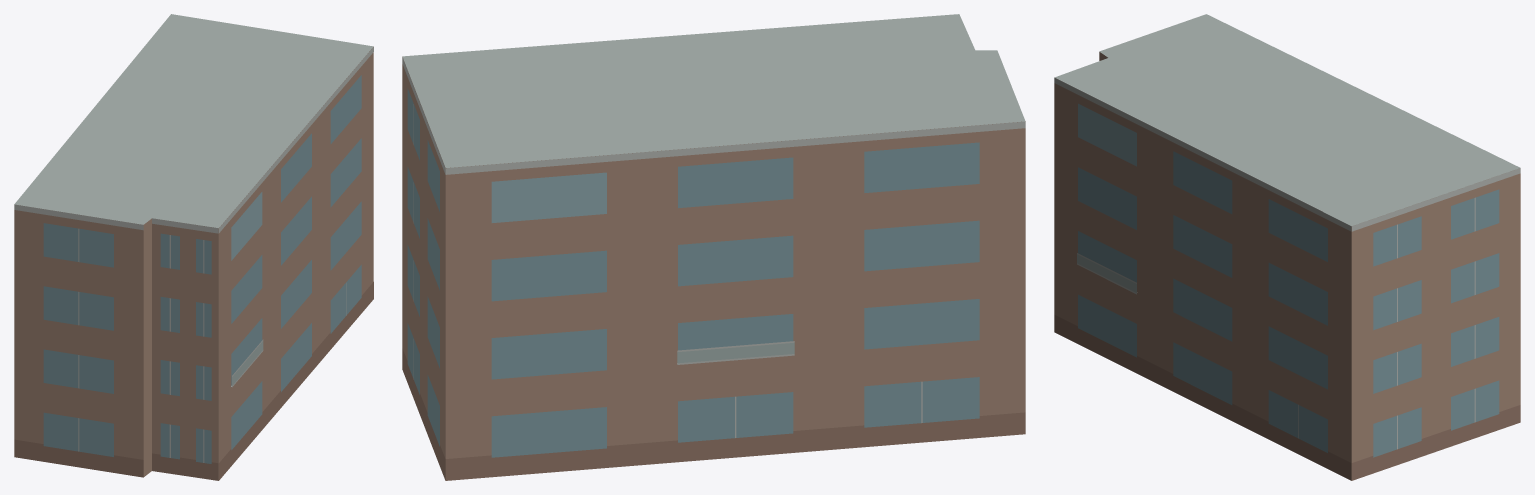
File: survey-upis-32836437.glb
3 renders of one model, left to right at view 1: azimuth 30°, elevation 25°; view 2: azimuth 150°, elevation 25°; view 3: azimuth 270°, elevation 25°, orthographic. The views are drawn at different scales.
Parts seen in each view (by area): view 1: survey-upis-32836437.tmp; view 2: survey-upis-32836437.tmp; view 3: survey-upis-32836437.tmp.
Boxes of the visible parts, box(x1,y1,x2,y2) form: survey-upis-32836437.tmp: box(14, 14, 373, 480); survey-upis-32836437.tmp: box(402, 14, 1025, 480); survey-upis-32836437.tmp: box(1054, 14, 1520, 480).
Bounding box in the file's own units: 20.21 × 11.3 × 18.76.
